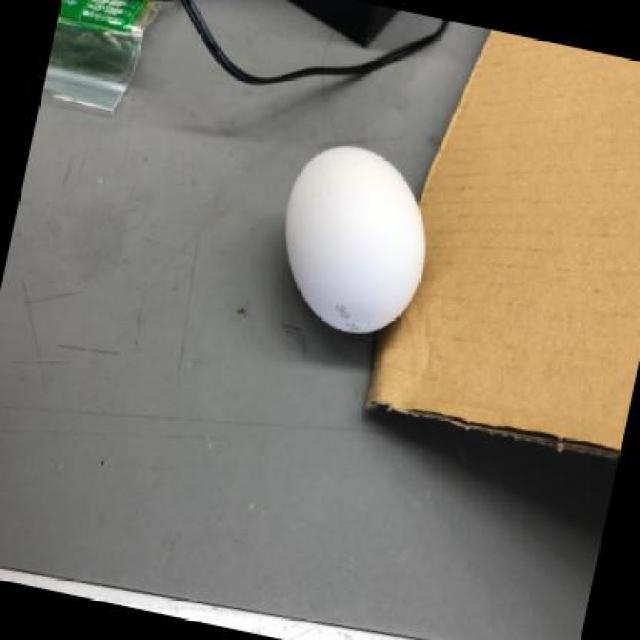egg: (280, 135, 434, 343)
